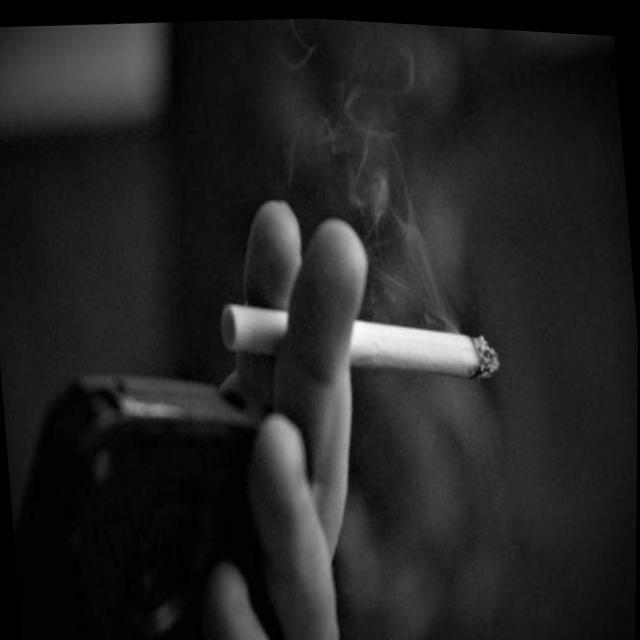Cigarette: (210, 293, 537, 383)
